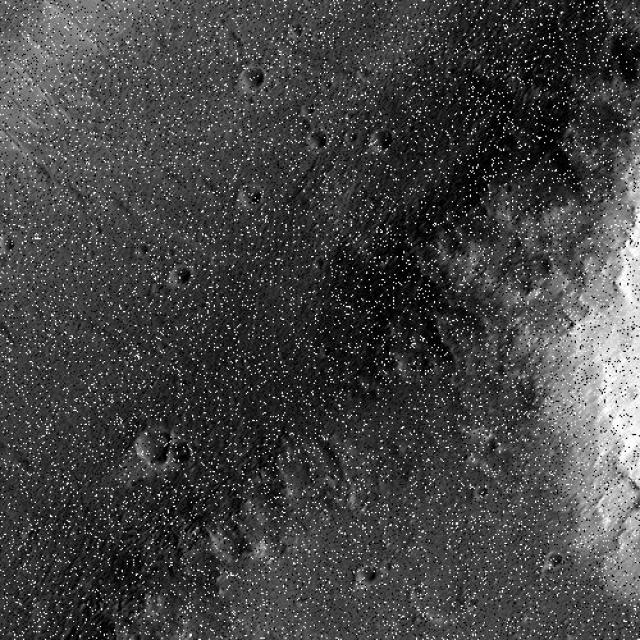crater: (384, 0, 640, 640), (117, 424, 183, 494), (136, 254, 211, 310), (344, 556, 388, 606), (229, 62, 275, 108), (229, 183, 273, 219), (358, 127, 394, 169), (300, 119, 336, 159)
